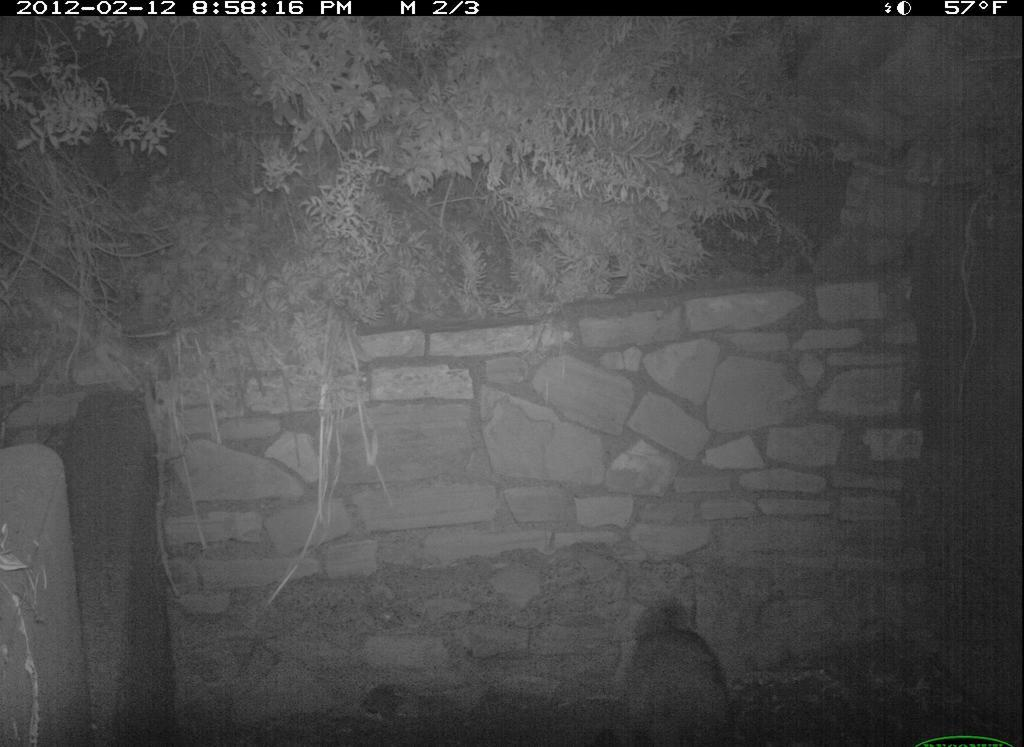raccoon: (610, 589, 749, 747)
